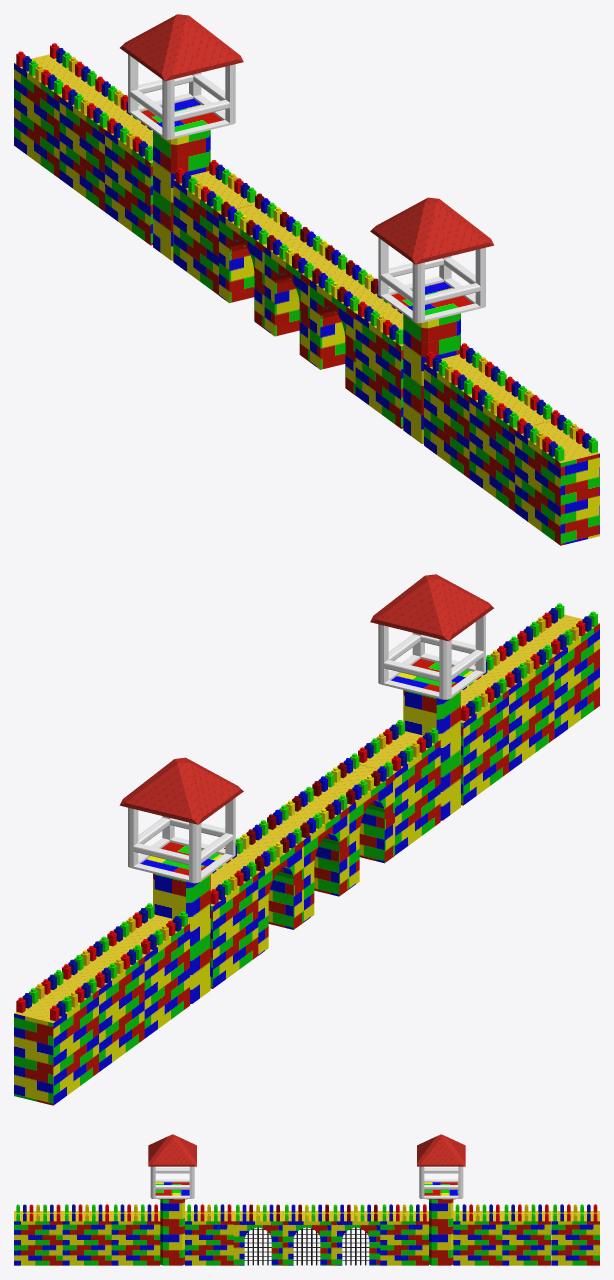
Rendered from fortress0.FBX.
3 renders of one model, top to bottom at view 1: azimuth 30°, elevation 25°; view 2: azimuth 150°, elevation 25°; view 3: azimuth 270°, elevation 25°, orthographic. The views are drawn at different scales.
Parts seen in each view (by area): view 1: Box019; view 2: Box019; view 3: Box019.
Boxes of the visible parts, <box> form: Box019: <box>14,14,599,545</box>; Box019: <box>14,574,599,1105</box>; Box019: <box>14,1134,599,1265</box>.
Size of the model in its own units: 129 by 363 by 1548.
13 materials, 3 textured.
